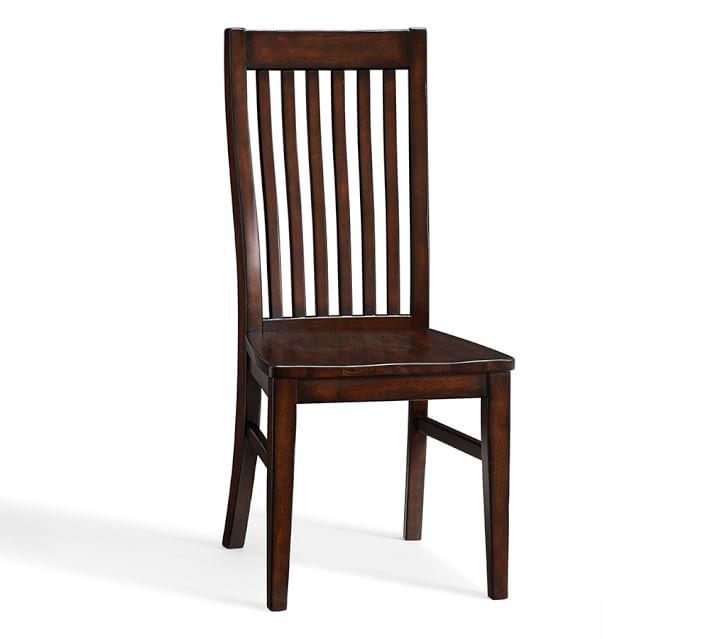chair: (166, 18, 590, 628)
